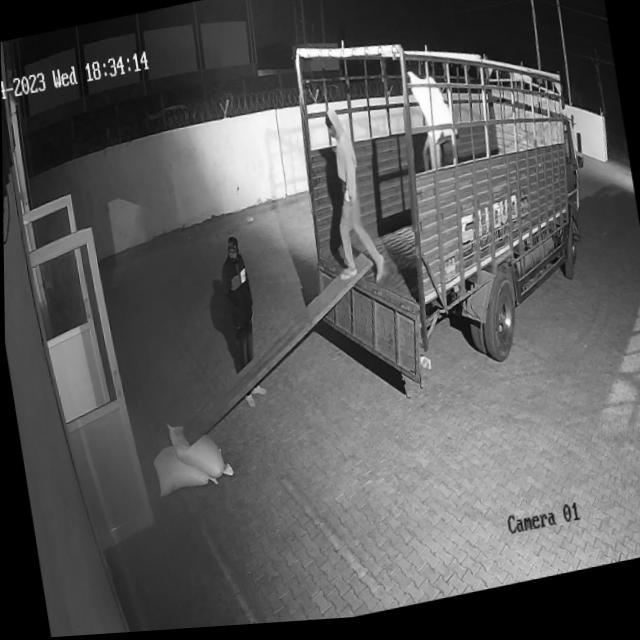sack: (164, 414, 232, 491), (406, 68, 456, 151), (149, 439, 216, 499)
